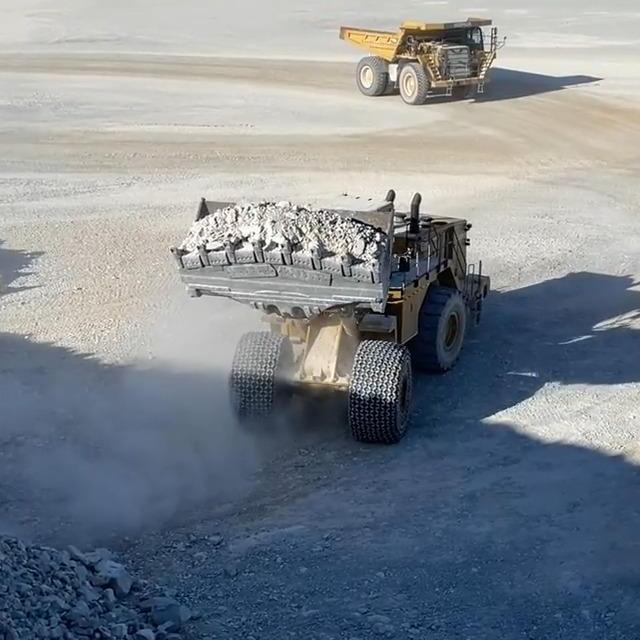dump truck: (334, 19, 503, 103)
wheel loader: (171, 187, 489, 459)
